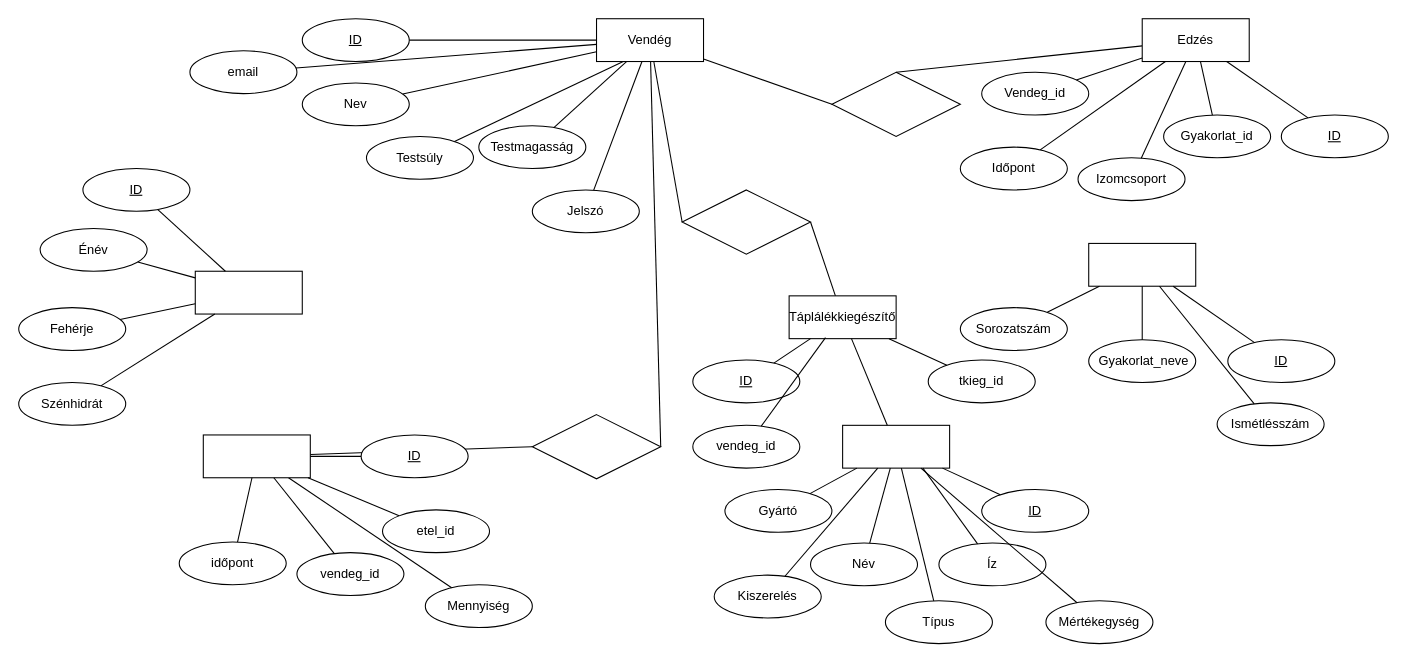
The diagram is 1407 pixels wide and 662 high, and some of its shapes have lost their labels. The centre of each missing label's shape, as x and y in pixels:
"Gyakorlatok" belongs at [1142,264].
"Milyen gyakorlatot csinált" belongs at [895,103].
"Milyen tkieget használ" belongs at [746,221].
"Mit evett a felhasználó" belongs at [596,446].
"táplálékkiegészítők adatai" belongs at [896,446].
"Ételek" belongs at [248,292].
"Étkezés" belongs at [256,456].
